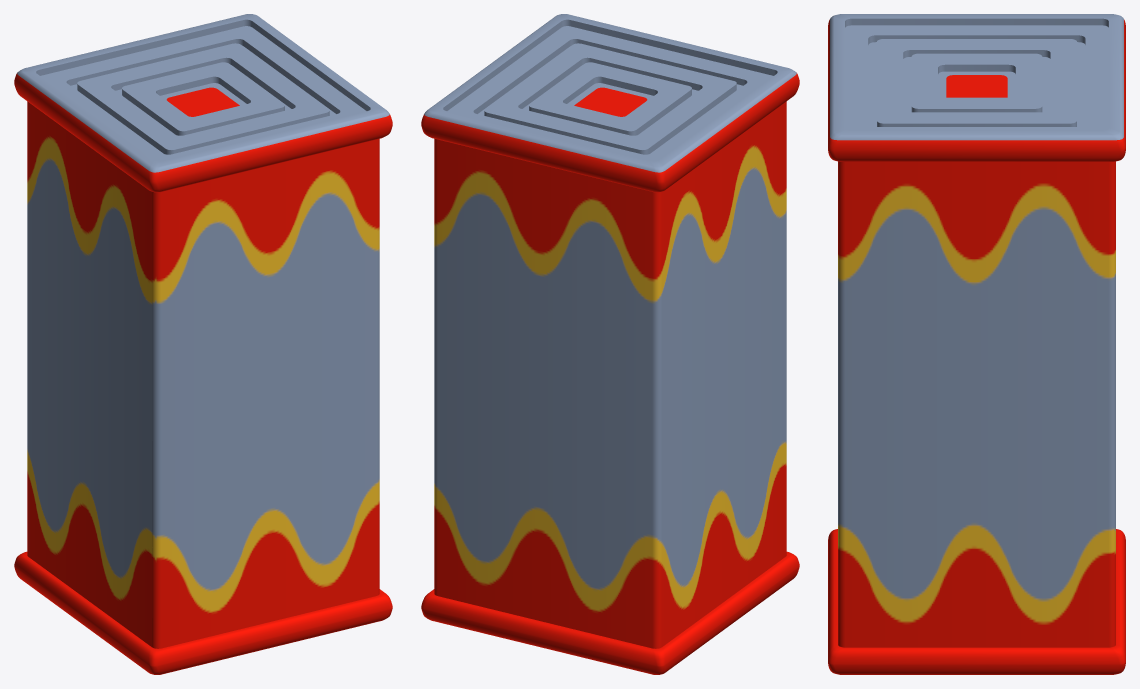
The model's file is CarnivalTinBox(V1)(fixed4).fbx.
The picture shows the model from 3 angles, left to right: view 1: azimuth 30°, elevation 25°; view 2: azimuth 150°, elevation 25°; view 3: azimuth 270°, elevation 25°; orthographic projection. The views are drawn at different scales.
Parts seen in each view (by area): view 1: Cube; view 2: Cube; view 3: Cube.
Boxes of the visible parts, x1,y1,x2,y2 form: Cube: [14, 14, 392, 674]; Cube: [421, 14, 799, 674]; Cube: [828, 14, 1125, 674].
Size of the model in its own units: 2 by 4 by 2.
2 materials, 2 textured.
